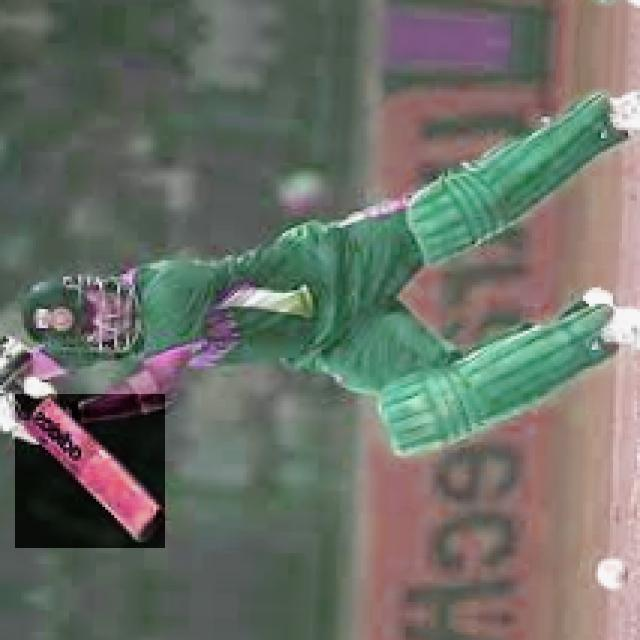bat: (13, 393, 163, 548)
toe: (126, 511, 170, 541)
